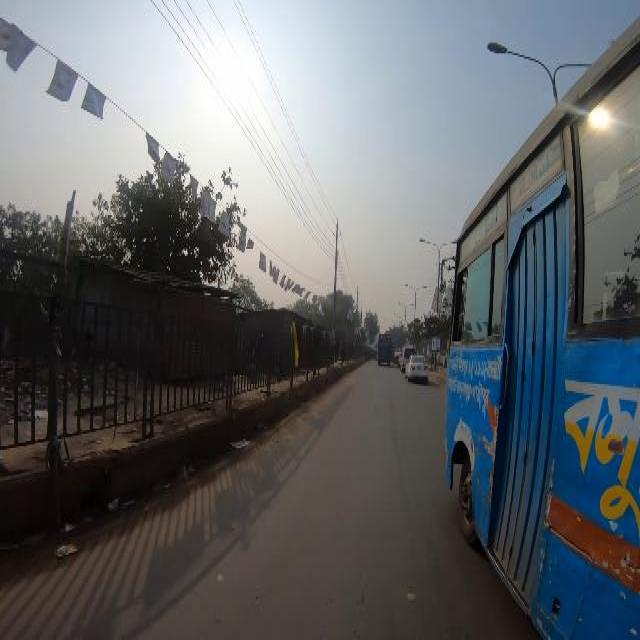5: (405, 353, 429, 383)
Truck: (437, 12, 639, 638), (376, 331, 392, 369)
